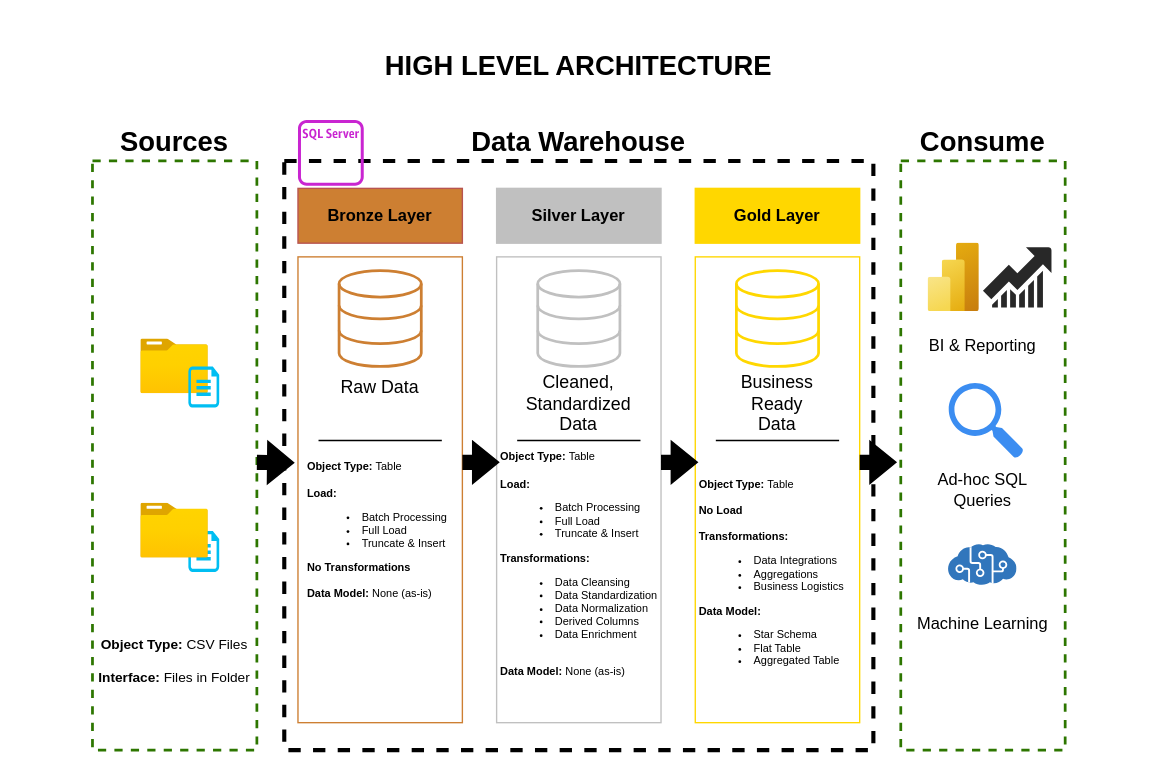
The diagram is 1156 pixels wide and 775 high, and some of its shapes have lost their labels. Each missing label, with the box of its shape:
CRM: (140, 338, 208, 393)
ERP: (140, 503, 208, 558)
